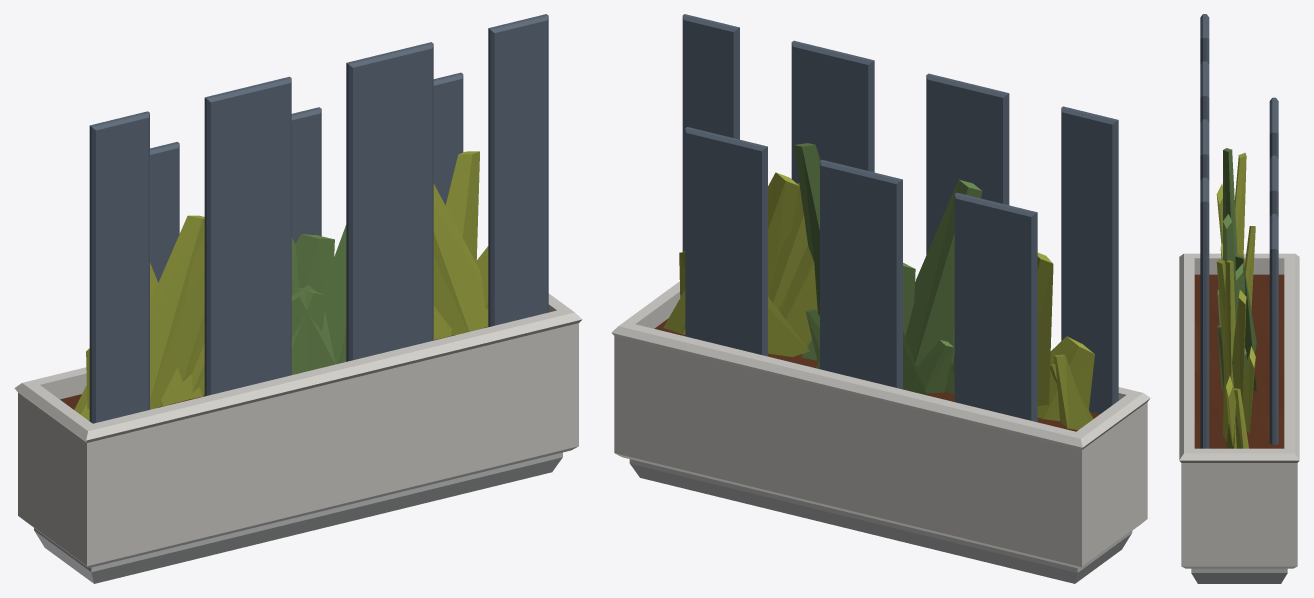
File: acoustic-planter-divider-3e9130.glb
The picture shows the model from 3 angles, left to right: view 1: azimuth 30°, elevation 25°; view 2: azimuth 150°, elevation 25°; view 3: azimuth 270°, elevation 25°; orthographic projection. The views are drawn at different scales.
Visible parts, largest first — view 1: acoustic-planter-divider; view 2: acoustic-planter-divider; view 3: acoustic-planter-divider.
Boxes of the visible parts, x1,y1,x2,y2 form: acoustic-planter-divider: [14, 14, 582, 583]; acoustic-planter-divider: [611, 14, 1150, 583]; acoustic-planter-divider: [1179, 14, 1299, 583].
Size of the model in its own units: 1.6 by 1.4 by 0.4.
